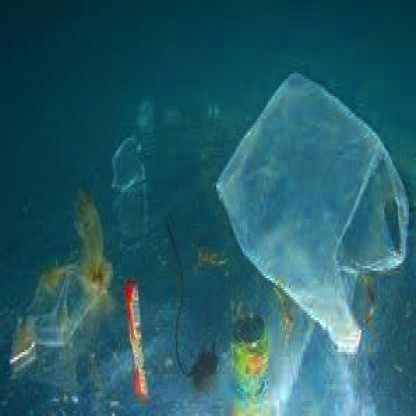can: (230, 313, 268, 406)
pbag: (215, 69, 412, 362)
